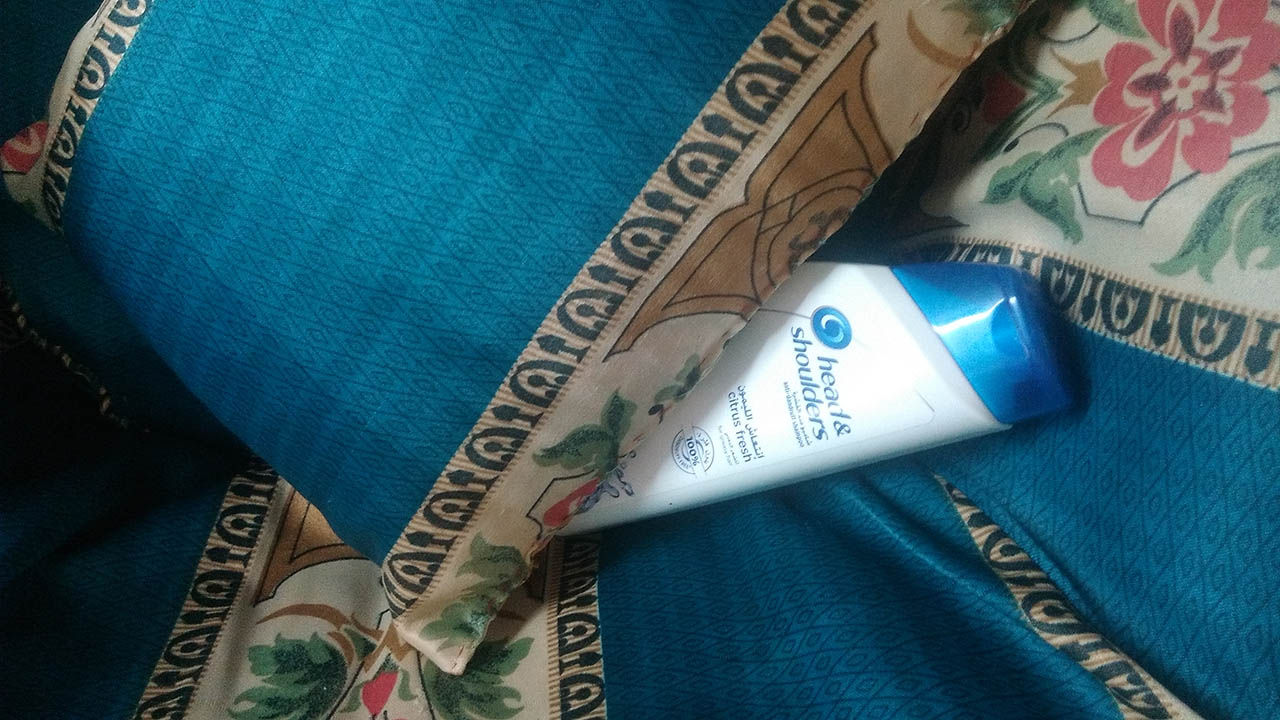shampoo-Lemon 3.5$: (476, 217, 1051, 548)
